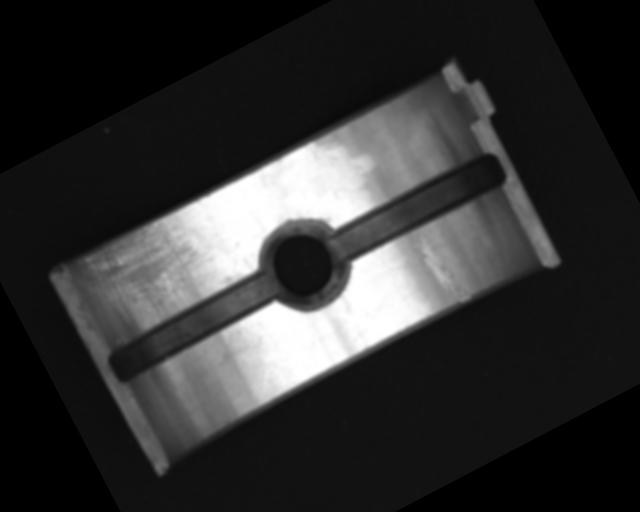gap: (325, 145, 512, 272), (100, 267, 280, 387)
hole: (246, 205, 362, 322)
nick: (410, 227, 472, 311)
scratch: (70, 200, 229, 345)
